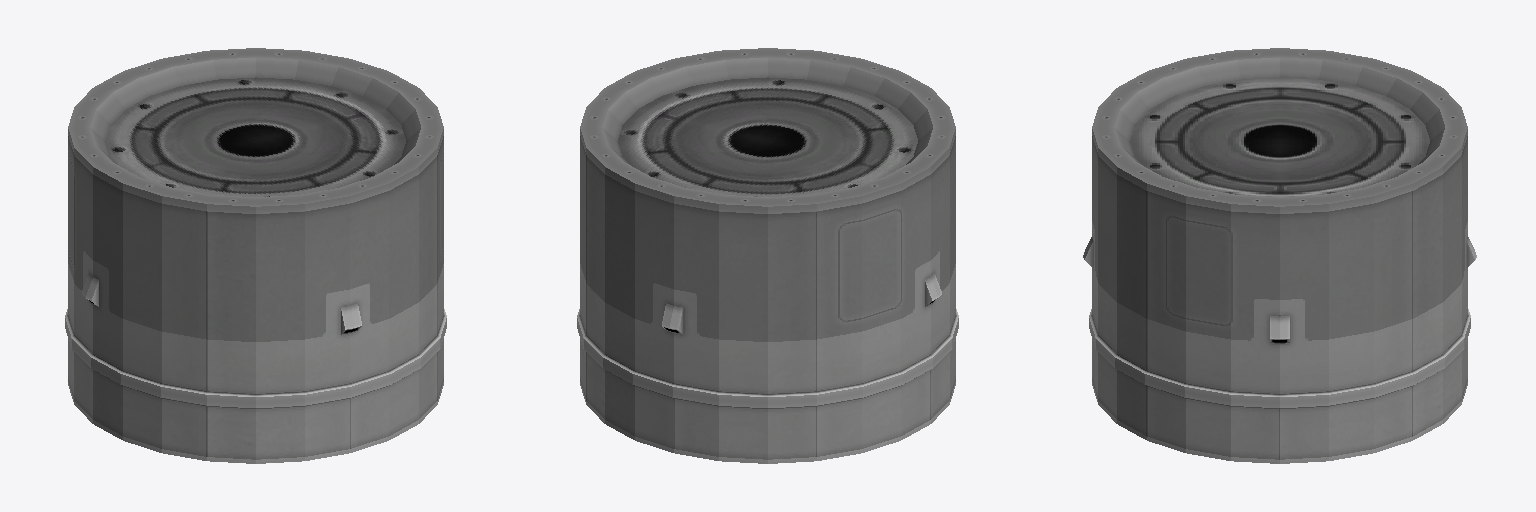
3 renders of one model, left to right at view 1: azimuth 30°, elevation 25°; view 2: azimuth 150°, elevation 25°; view 3: azimuth 270°, elevation 25°, orthographic.
Visible parts, largest first — view 1: Arrow_Engine_A; view 2: Arrow_Engine_A; view 3: Arrow_Engine_A.
Boxes of the visible parts, box(x1,y1,x2,y2) form: Arrow_Engine_A: box(65, 48, 446, 463); Arrow_Engine_A: box(577, 48, 958, 463); Arrow_Engine_A: box(1083, 48, 1476, 463).
Bounding box in the file's own units: 1.31 × 0.9438 × 1.31.
Materials: 1 (1 with a texture image).